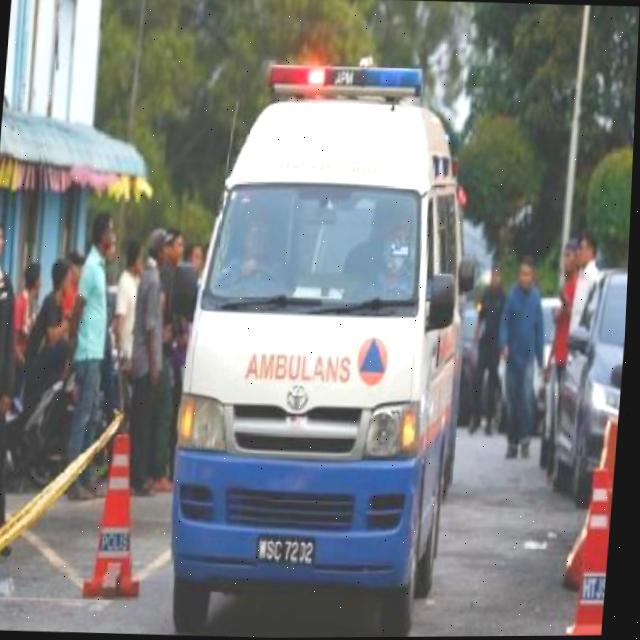emergency: (163, 51, 493, 639)
